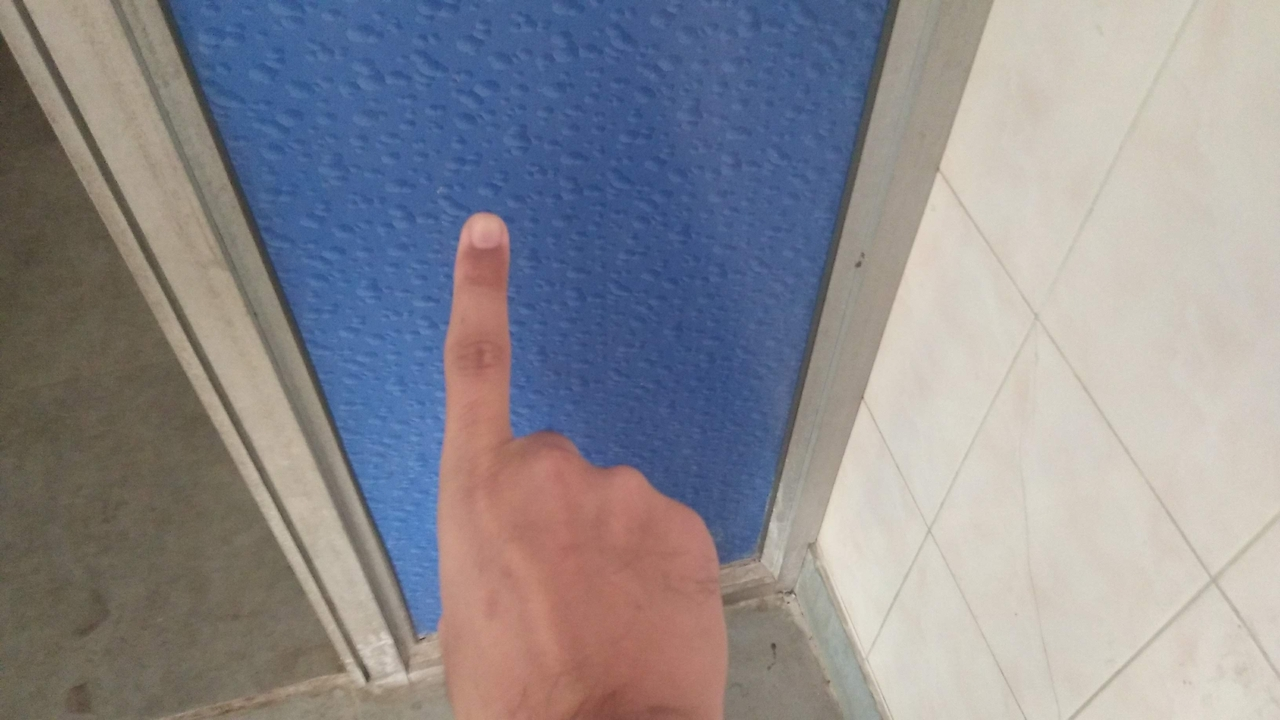fingertip: (444, 200, 512, 266)
